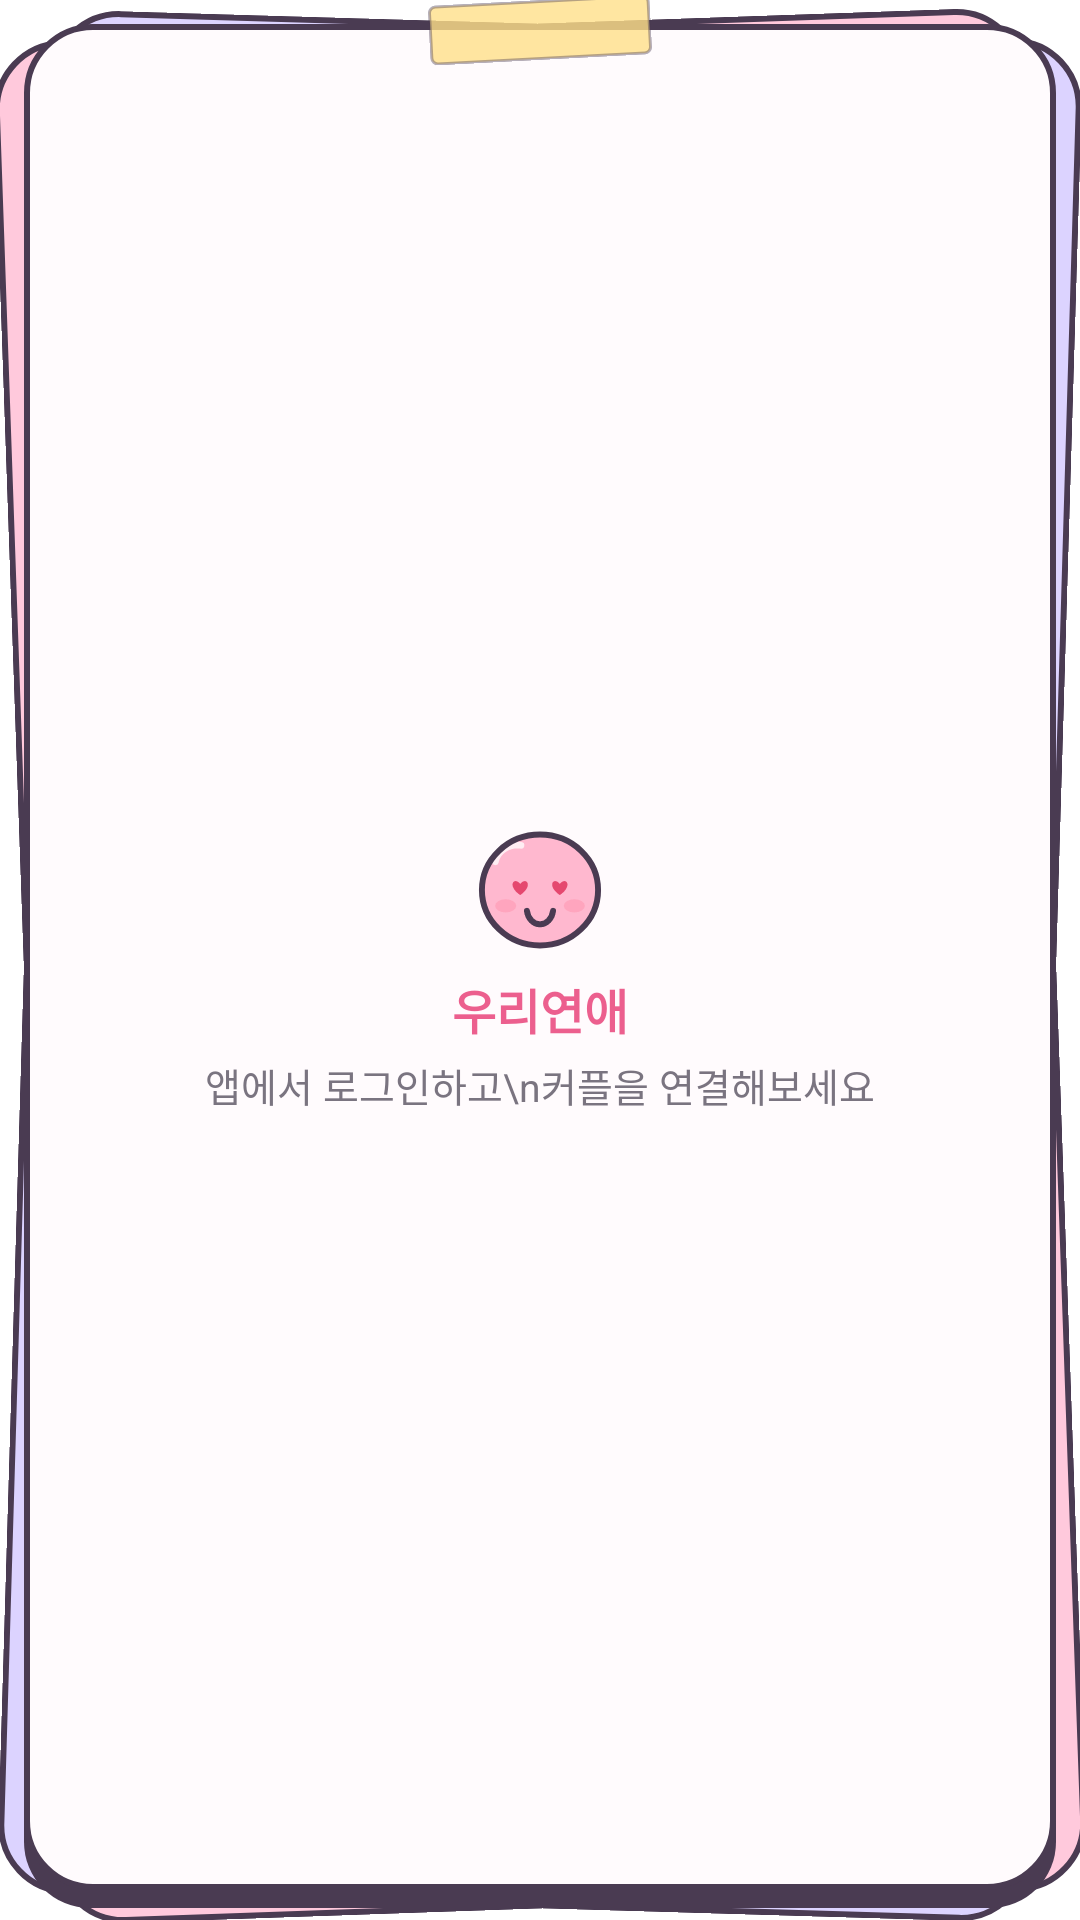

Where to tap for icons on this 1080 x 1920 app screen, as (x,y):
mood face love: (540,890)
